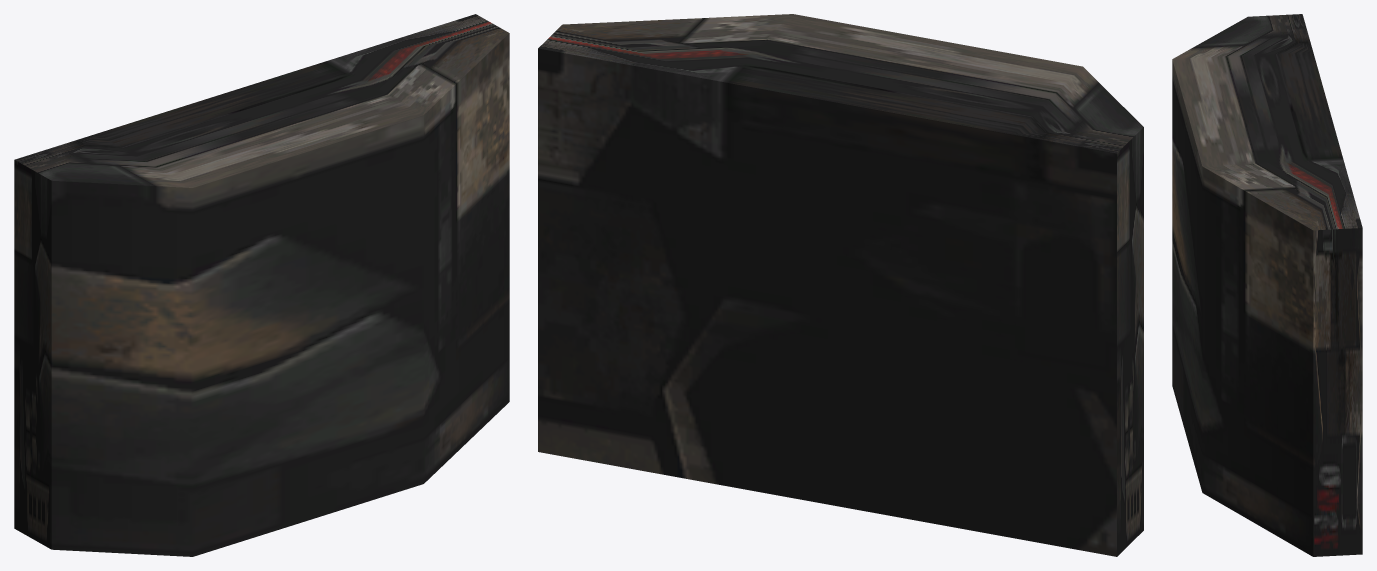
File: veh_t6_drone_rcxd_alt_LOD3.obj
3 views of the same model, side by side, from view 1: azimuth 30°, elevation 25°; view 2: azimuth 150°, elevation 25°; view 3: azimuth 270°, elevation 25° (orthographic). The views are drawn at different scales.
Parts seen in each view (by area): view 1: mtl_veh_t6_rcxd_alt; view 2: mtl_veh_t6_rcxd_alt; view 3: mtl_veh_t6_rcxd_alt.
Part boxes in pixels (x1=…): mtl_veh_t6_rcxd_alt: x1=14, y1=14, x2=509, y2=556; mtl_veh_t6_rcxd_alt: x1=538, y1=14, x2=1143, y2=556; mtl_veh_t6_rcxd_alt: x1=1172, y1=14, x2=1362, y2=556.
Size of the model in its own units: 80.66 by 56.76 by 29.99.
